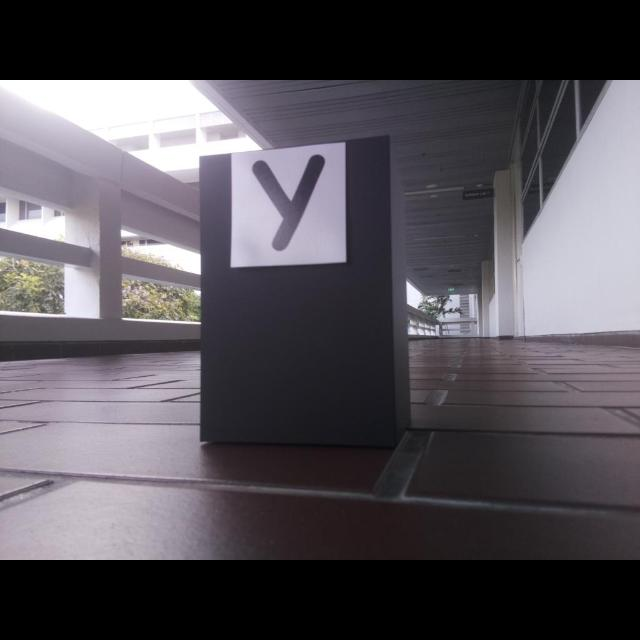Y: (253, 155, 324, 251)
